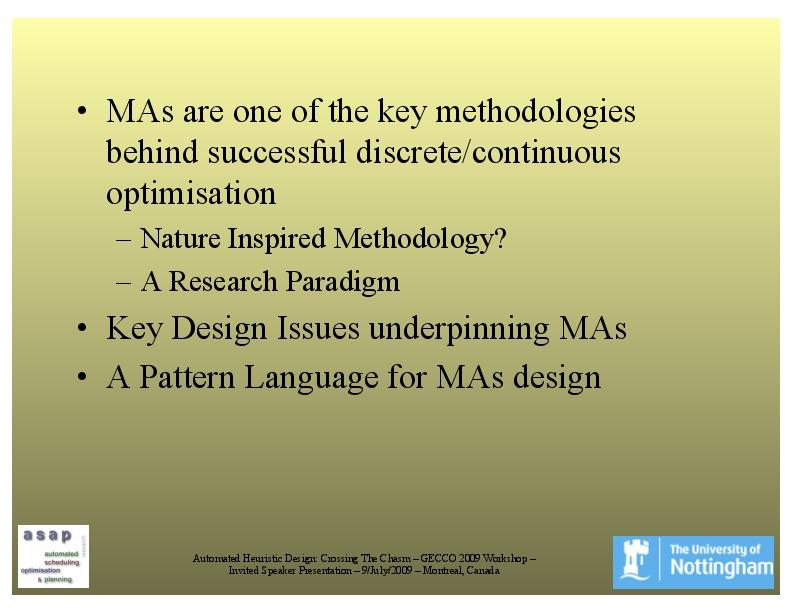paragraph: (71, 79, 701, 420)
